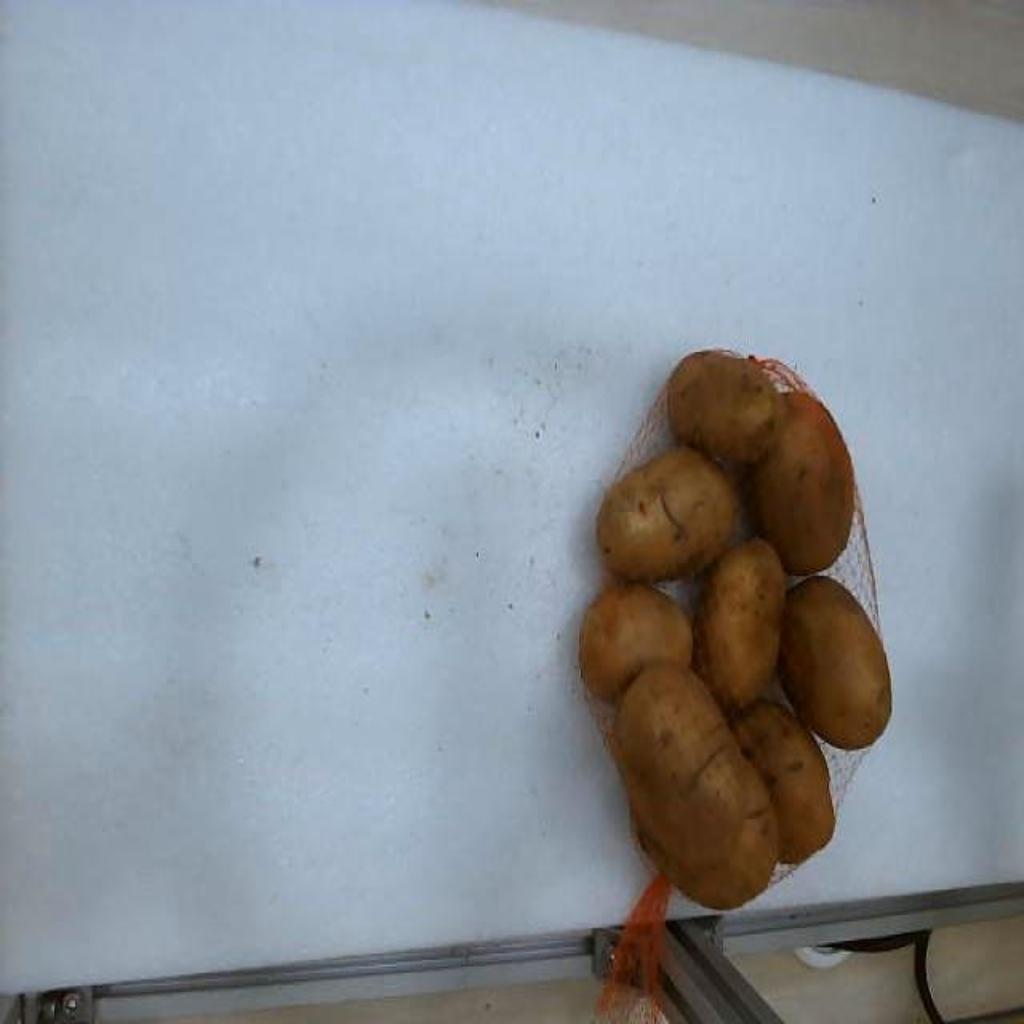potato: (614, 664, 778, 909), (750, 392, 854, 575), (782, 576, 892, 749), (598, 448, 734, 581), (732, 699, 834, 864), (694, 539, 786, 711), (580, 584, 692, 700), (668, 349, 778, 463)
